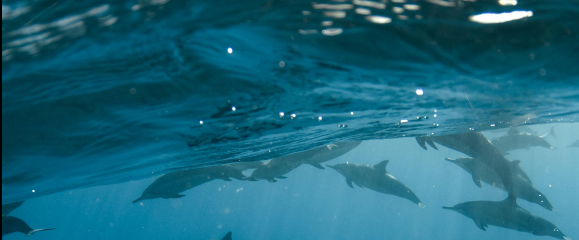dolphin: (416, 130, 517, 208), (442, 157, 564, 216), (440, 189, 578, 240), (127, 164, 260, 204), (326, 158, 427, 210), (242, 143, 338, 183), (489, 126, 557, 155), (305, 138, 366, 170)
